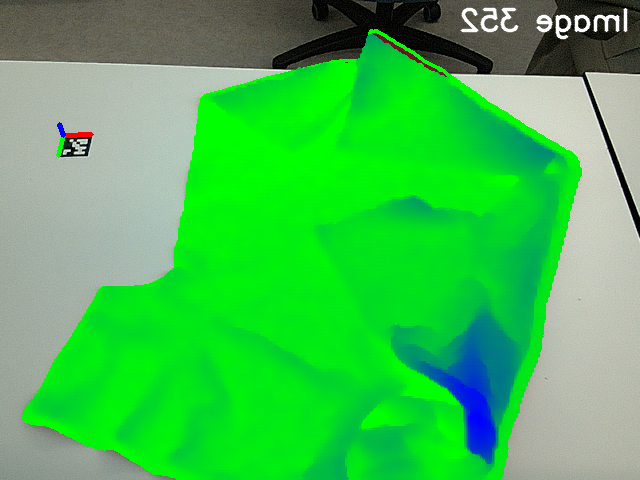V: (304, 204, 374, 263), (259, 109, 313, 158), (331, 122, 385, 161)
